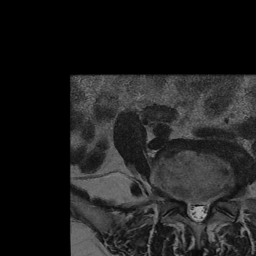CCS_normal: (194, 197, 201, 228)
LFS_normal: (209, 187, 218, 208)
LLS_normal: (202, 197, 210, 222)
RFS_severe_stenosis: (177, 188, 186, 210)
RLS_normal: (186, 195, 194, 225)
